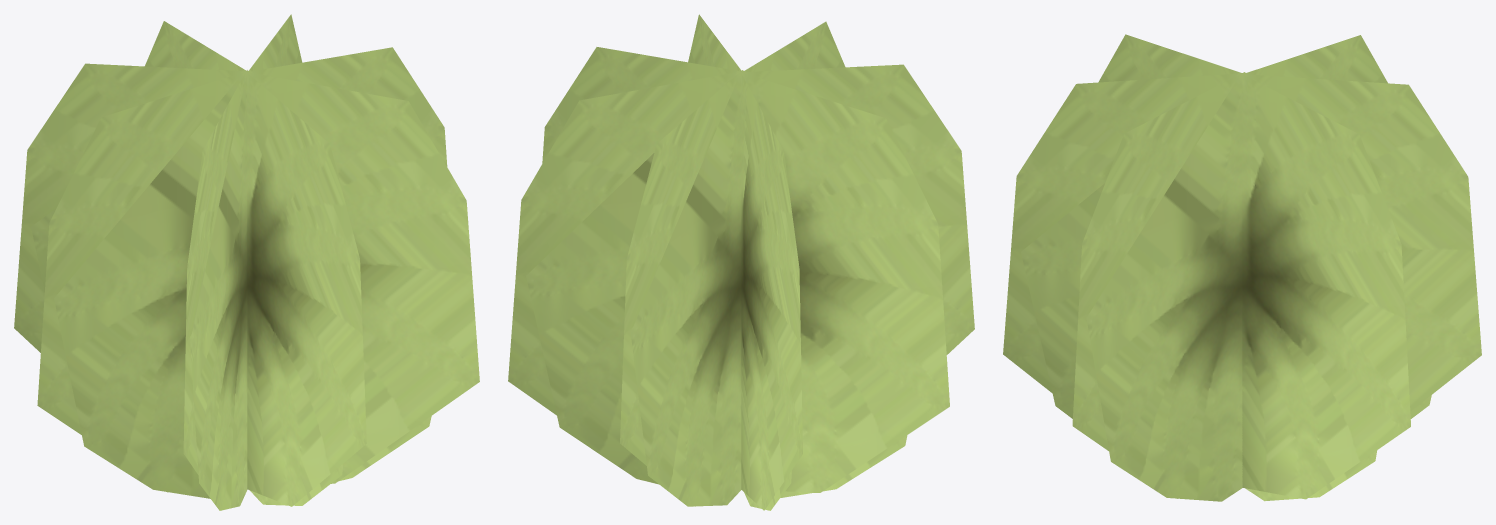
Rendered from painted-weed-014.glb.
The picture shows the model from 3 angles, left to right: view 1: azimuth 30°, elevation 25°; view 2: azimuth 150°, elevation 25°; view 3: azimuth 270°, elevation 25°; orthographic projection.
Bounding box in the file's own units: 10.08 × 9.73 × 10.08.
Materials: 1 (1 with a texture image).
